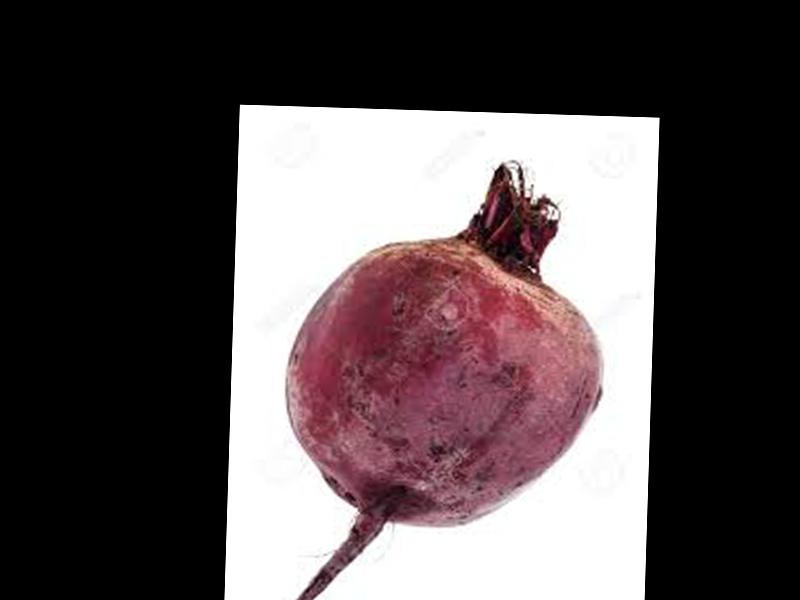Beet: (278, 155, 607, 600)
